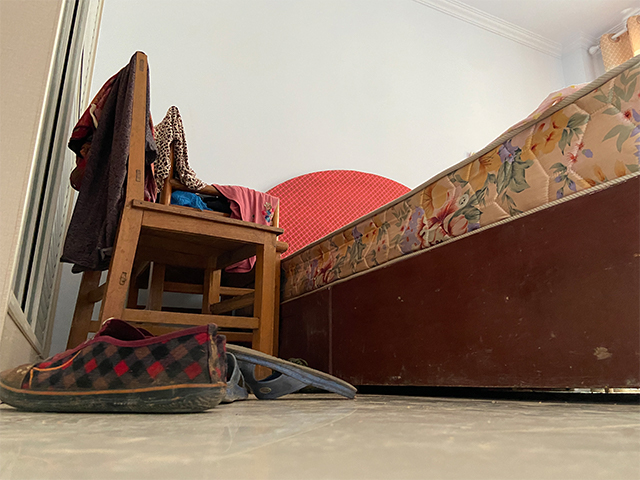bed: (270, 47, 640, 397)
slippers: (220, 342, 358, 402)
stool: (64, 49, 285, 381)
